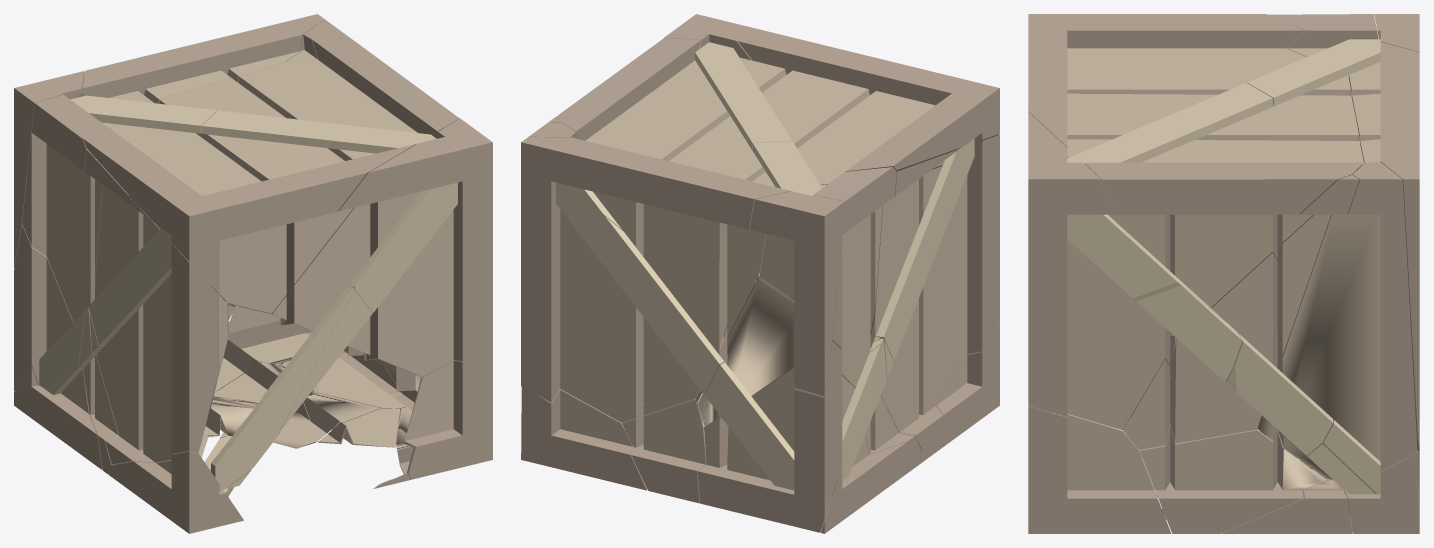
File: Prop_Crate_01_fractured.fbx
3 views of the same model, side by side, from view 1: azimuth 30°, elevation 25°; view 2: azimuth 150°, elevation 25°; view 3: azimuth 270°, elevation 25° (orthographic). The views are drawn at different scales.
Parts seen in each view (by area): view 1: object7_cell, object7_cell.021, object7_cell.001, object7_cell.023, object7_cell.009, object7_cell.027, object7_cell.011, object7_cell.022, object4_cell.002, object3_cell.005, object2_cell.003, object7_cell.017 (+18 smaller); view 2: object7_cell.009, object7_cell, object7_cell.001, object7_cell.022, object7_cell.029, object7_cell.023, object6_cell.002, object7_cell.020, object7_cell.028, object7_cell.018, object2_cell.003, object6_cell.004 (+9 smaller); view 3: object7_cell, object7_cell.015, object7_cell.021, object7_cell.005, object7_cell.027, object7_cell.014, object7_cell.009, object4_cell.002, object5_cell.004, object5_cell, object5_cell.002, object7_cell.020 (+6 smaller).
Part boxes in pixels (bbox=[...]): object7_cell: bbox=[82, 38, 459, 320]; object7_cell.021: bbox=[272, 118, 492, 376]; object7_cell.001: bbox=[84, 149, 228, 464]; object7_cell.023: bbox=[22, 95, 114, 321]; object7_cell.009: bbox=[83, 14, 324, 306]; object7_cell.027: bbox=[396, 345, 492, 479]; object7_cell.011: bbox=[108, 451, 243, 533]; object7_cell.022: bbox=[14, 224, 89, 412]; object4_cell.002: bbox=[201, 110, 436, 153]; object3_cell.005: bbox=[349, 182, 457, 312]; object2_cell.003: bbox=[88, 227, 185, 345]; object7_cell.017: bbox=[14, 365, 101, 469]; object7_cell.009: bbox=[521, 137, 790, 422]; object7_cell: bbox=[558, 38, 999, 187]; object7_cell.001: bbox=[870, 134, 999, 449]; object7_cell.022: bbox=[697, 341, 855, 532]; object7_cell.029: bbox=[749, 191, 844, 395]; object7_cell.023: bbox=[814, 167, 896, 387]; object6_cell.002: bbox=[556, 193, 724, 395]; object7_cell.020: bbox=[521, 387, 647, 490]; object7_cell.028: bbox=[696, 275, 794, 426]; object7_cell.018: bbox=[622, 398, 706, 503]; object2_cell.003: bbox=[875, 138, 974, 360]; object6_cell.004: bbox=[705, 362, 794, 490]; object7_cell: bbox=[1028, 14, 1364, 338]; object7_cell.015: bbox=[1257, 162, 1417, 479]; object7_cell.021: bbox=[1028, 112, 1176, 430]; object7_cell.005: bbox=[1123, 175, 1359, 449]; object7_cell.027: bbox=[1028, 405, 1171, 533]; object7_cell.014: bbox=[1139, 422, 1325, 533]; object7_cell.009: bbox=[1348, 42, 1419, 451]; object4_cell.002: bbox=[1067, 83, 1273, 163]; object5_cell.004: bbox=[1226, 333, 1333, 455]; object5_cell: bbox=[1067, 214, 1223, 319]; object5_cell.002: bbox=[1136, 285, 1242, 381]; object7_cell.020: bbox=[1331, 451, 1419, 533].
Size of the model in its own units: 100 by 100 by 100.
